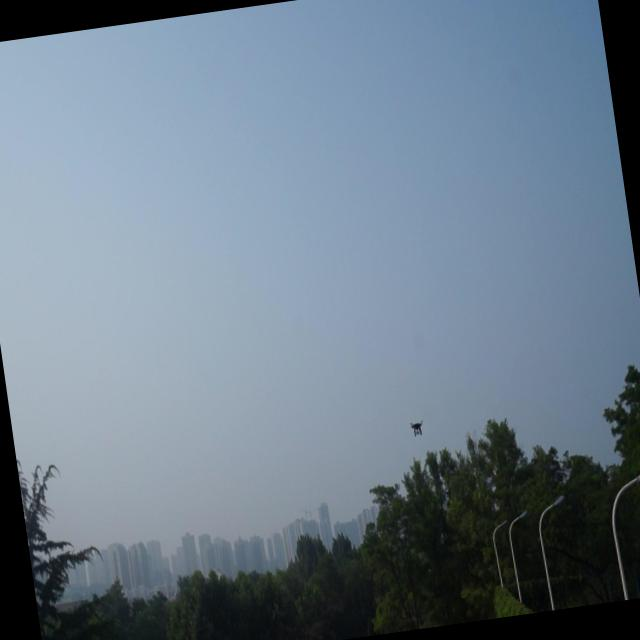drone: (407, 415, 428, 444)
